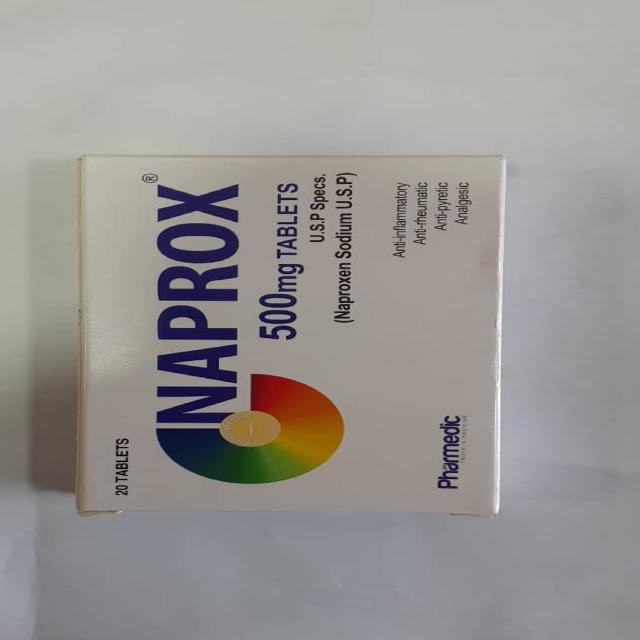drug-name: (156, 182, 242, 423)
